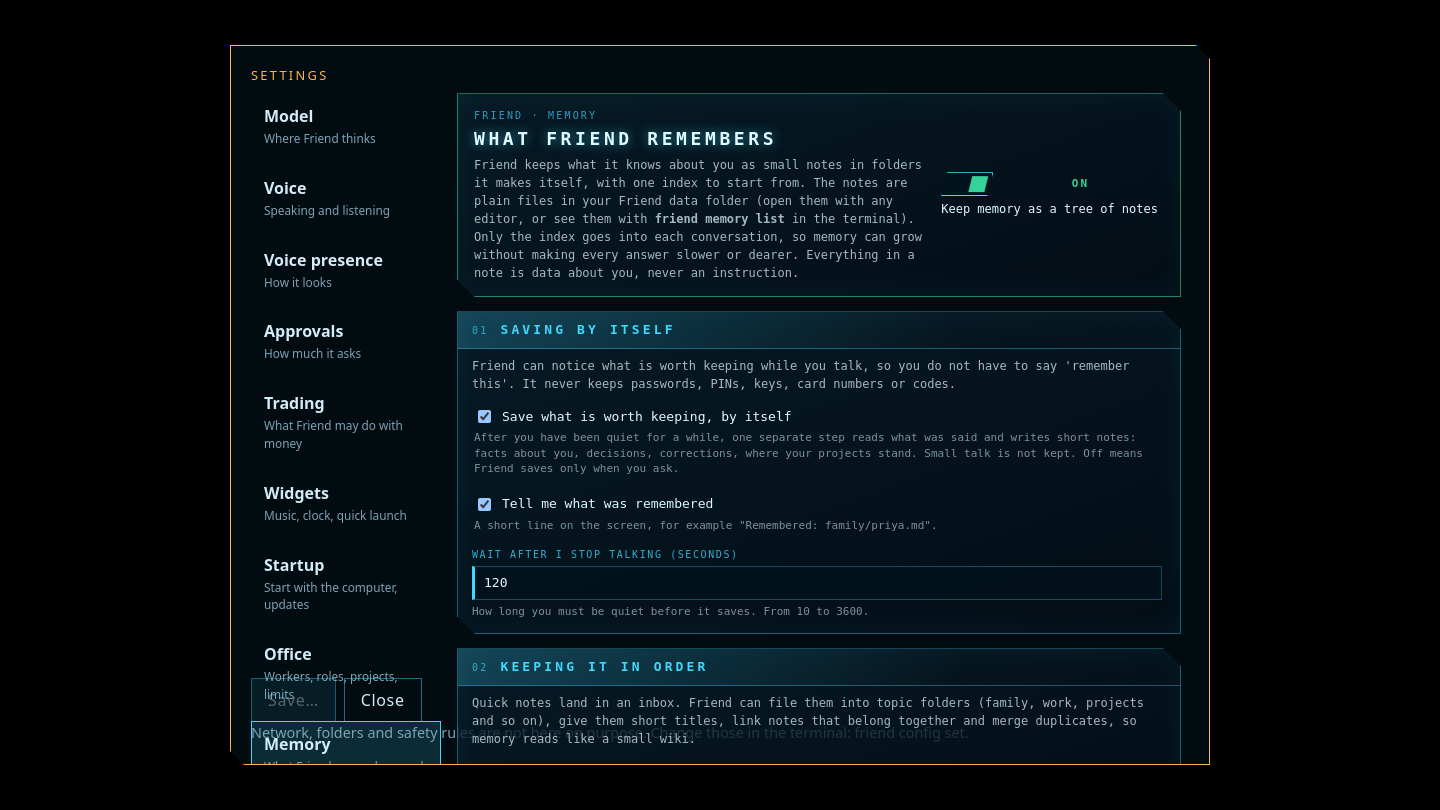
it: saving memory settings › sends only what changed, and asks for the PIN
Click the checkbox labelled "Save what is worth keeping, by itself". click: (484, 416)
box: [478,410,491,423]
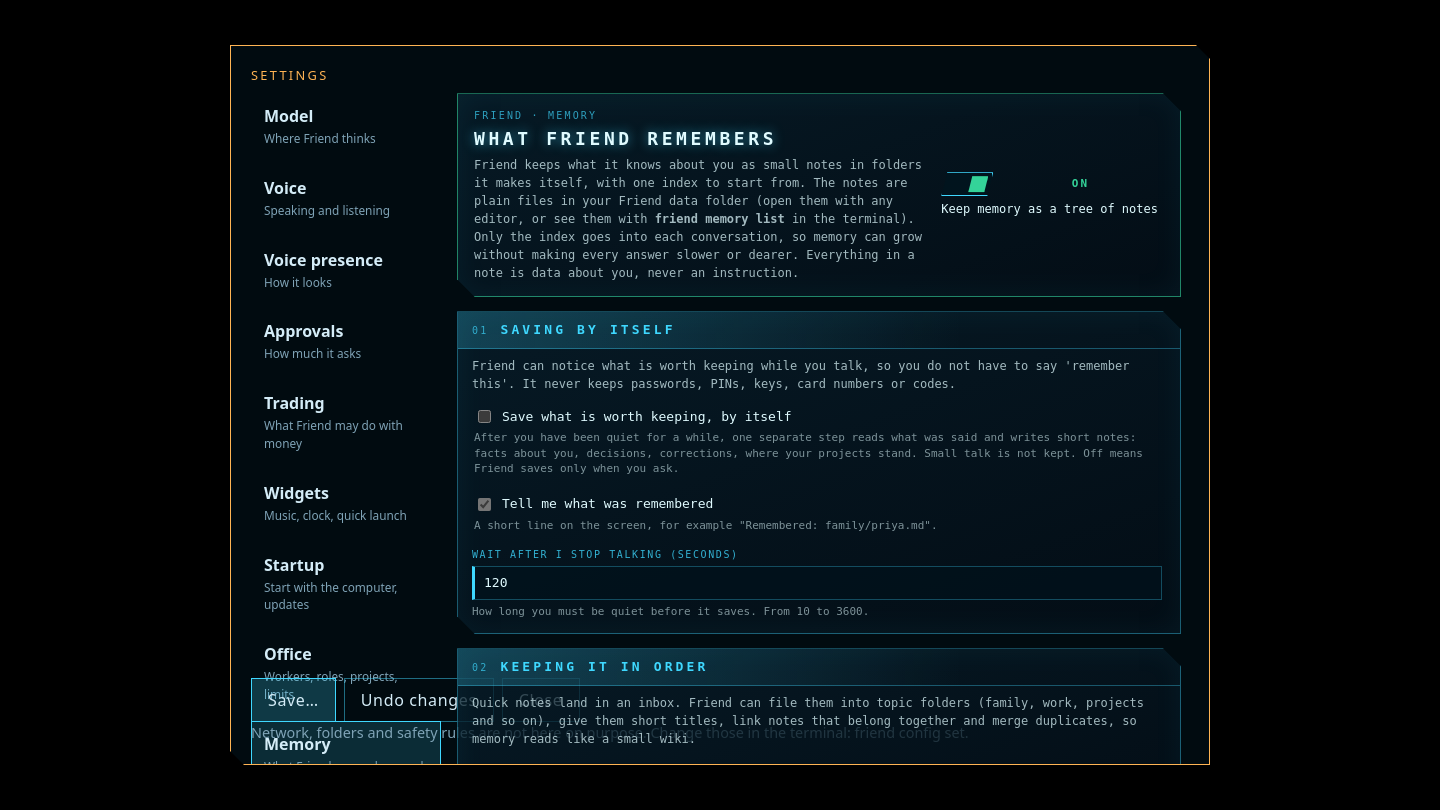
Click the button "Save…". click: (293, 700)
box: [251,678,336,722]
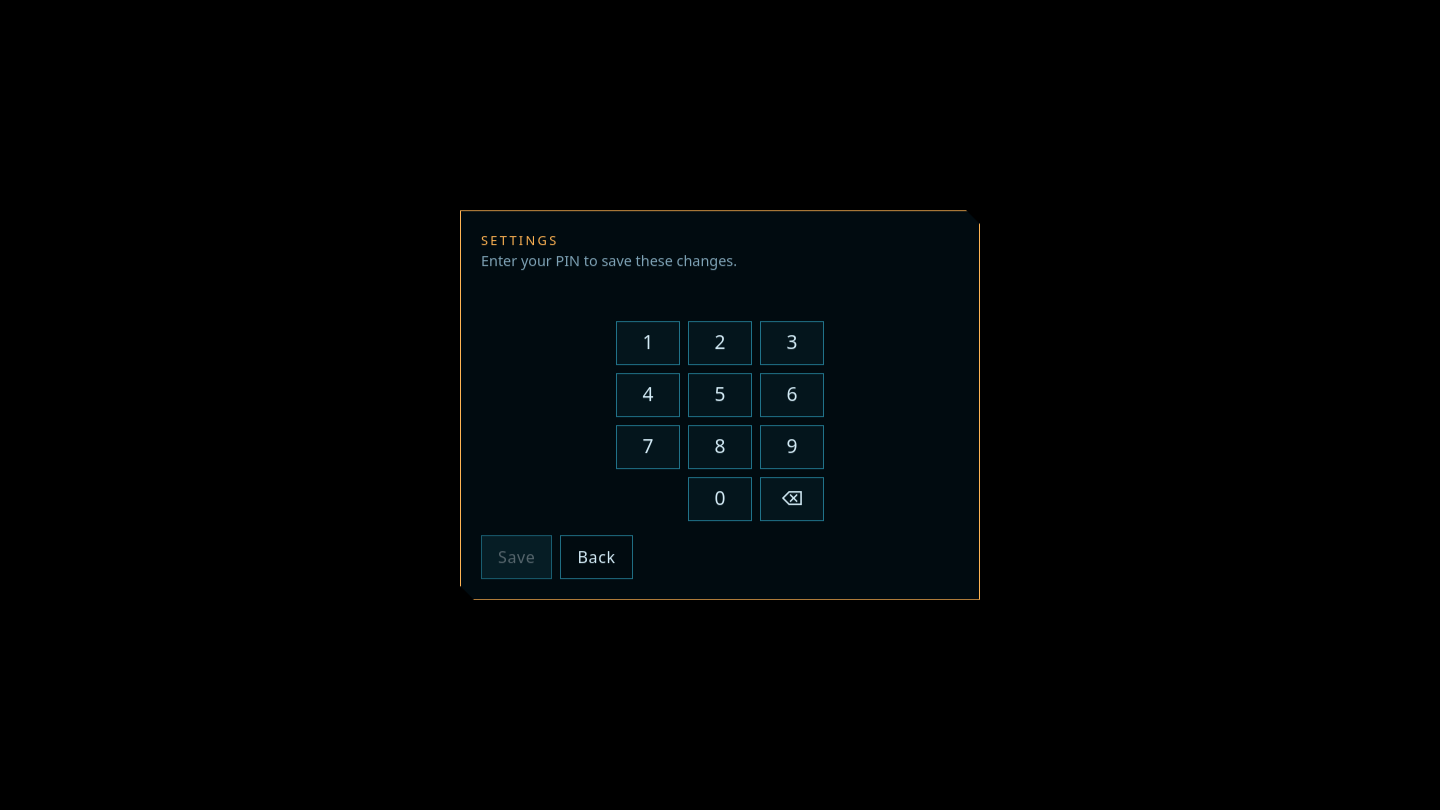
Check: the text "Enter your PIN to save these changes." is shown, box [481,251,737,270]
